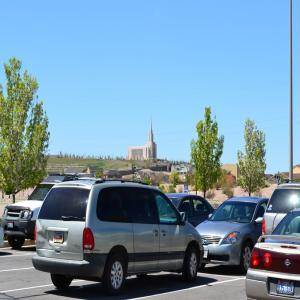Vehicle-registration-plate: (277, 278, 296, 294), (54, 232, 65, 244), (7, 221, 15, 229), (204, 251, 209, 260)
